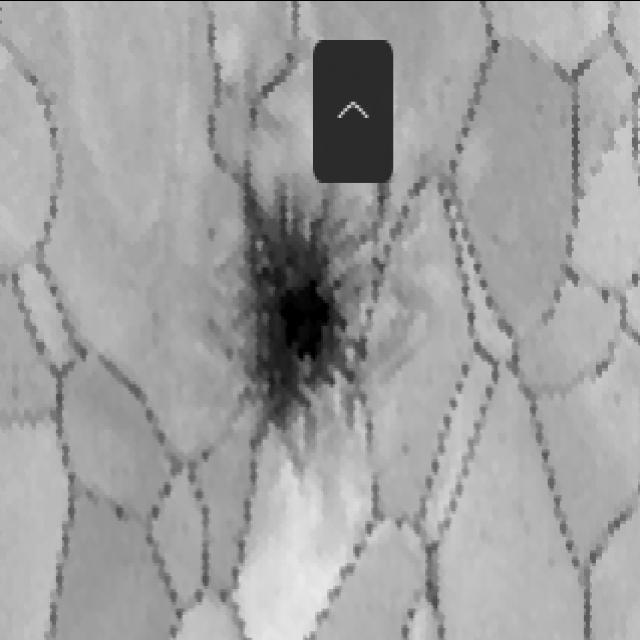good_void: (202, 183, 387, 483), (398, 439, 412, 460)
